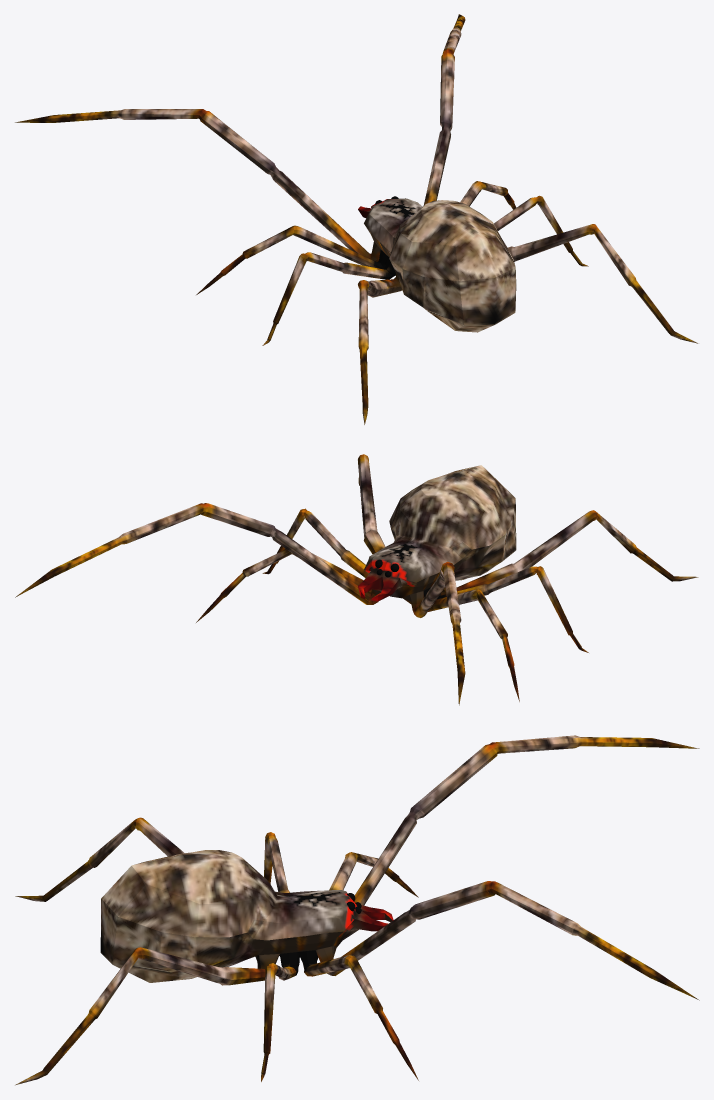
Rendered from spider.fbx.
3 views of the same model, one above another, from view 1: azimuth 30°, elevation 25°; view 2: azimuth 150°, elevation 25°; view 3: azimuth 270°, elevation 25° (orthographic). The views are drawn at different scales.
Parts seen in each view (by area): view 1: Spider; view 2: Spider; view 3: Spider.
Part boxes in pixels (<box>): Spider: <box>15,14,698,424</box>; Spider: <box>15,454,698,705</box>; Spider: <box>15,735,699,1085</box>.
Bounding box in the file's own units: 362 × 119 × 416.
